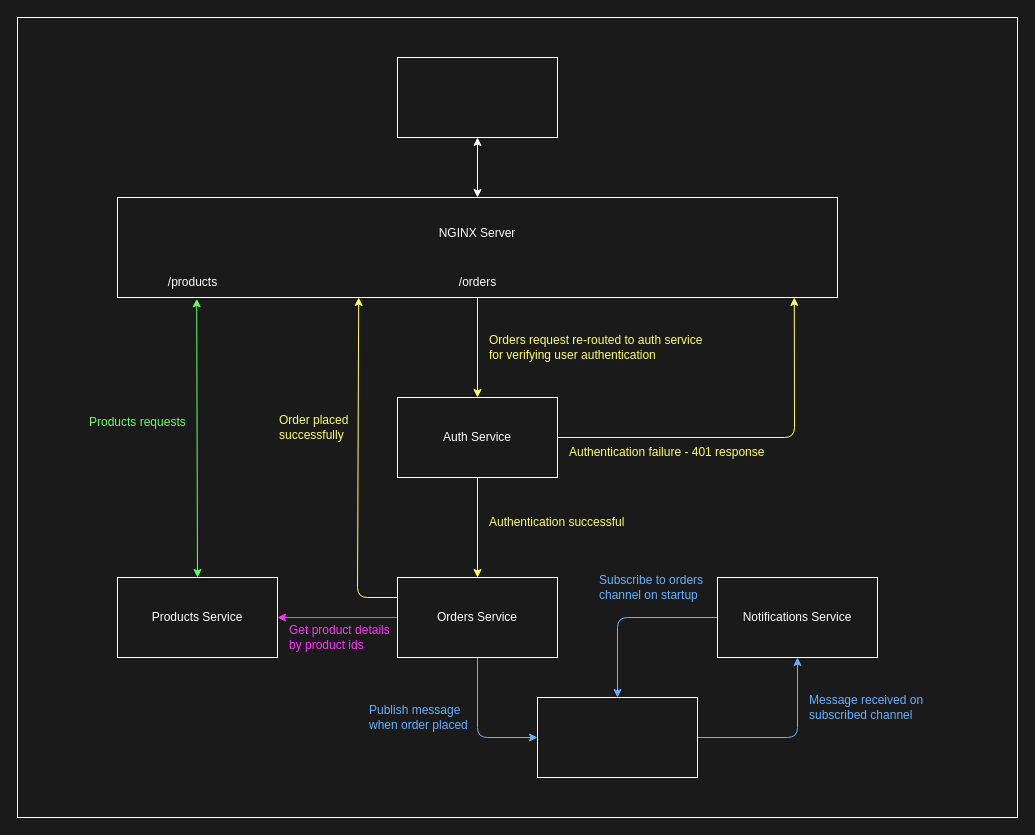
Image size: 1035x835. Some labels were removed from this diagram. The centre of each missing label's shape, as x and y in pixels:
Client requests: [477,97]
NATS Broker: [617,737]
